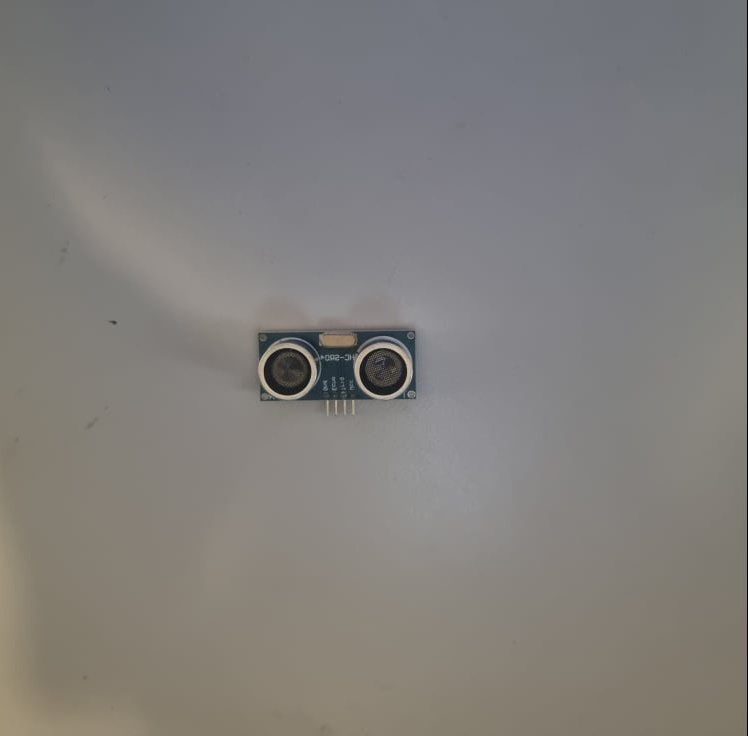SENSOR: (256, 330, 418, 402)
